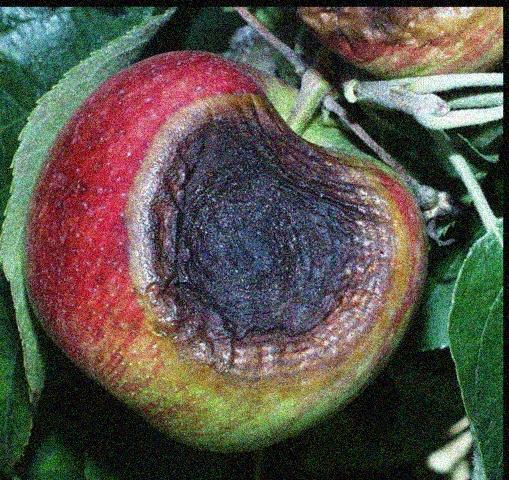rotten apple: (24, 51, 427, 451), (291, 7, 502, 78)
